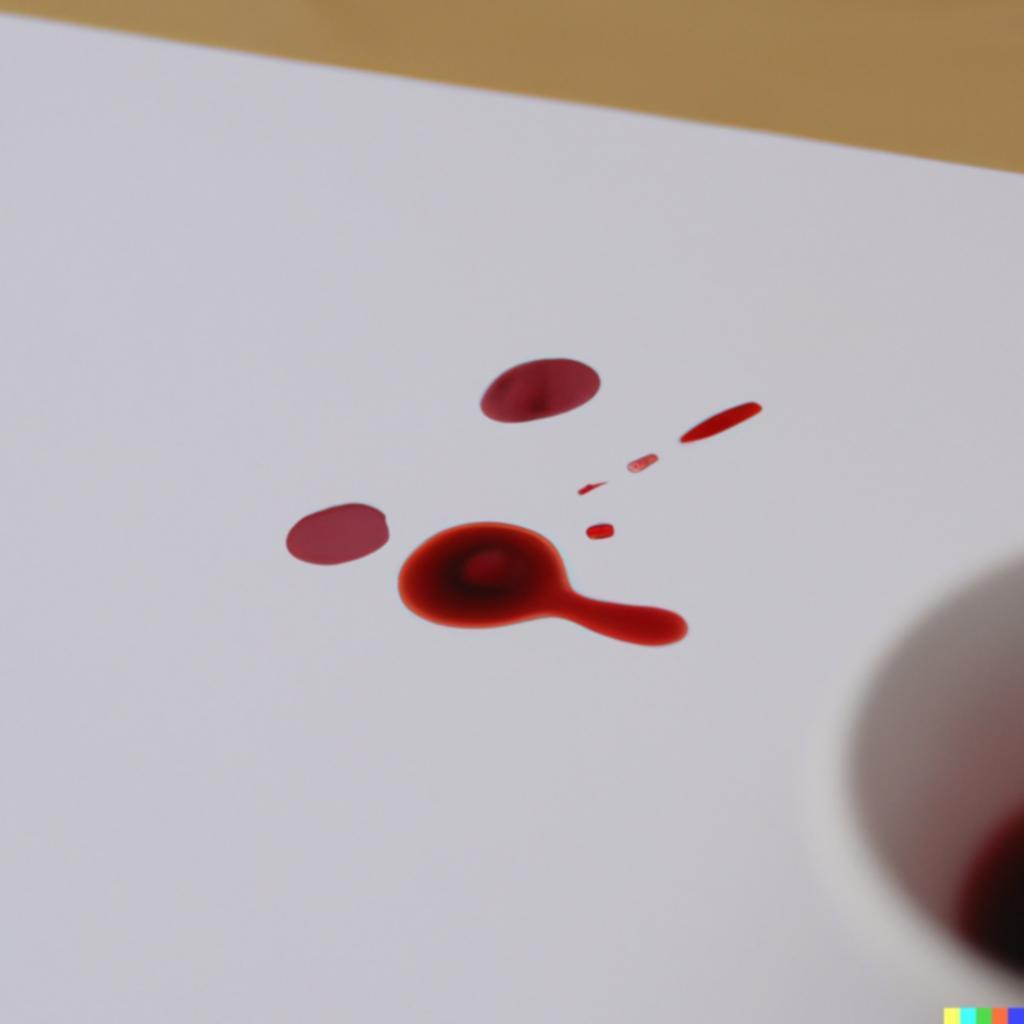Bloodstain-Detection: (420, 530, 558, 629), (492, 378, 606, 424), (308, 500, 361, 563)
